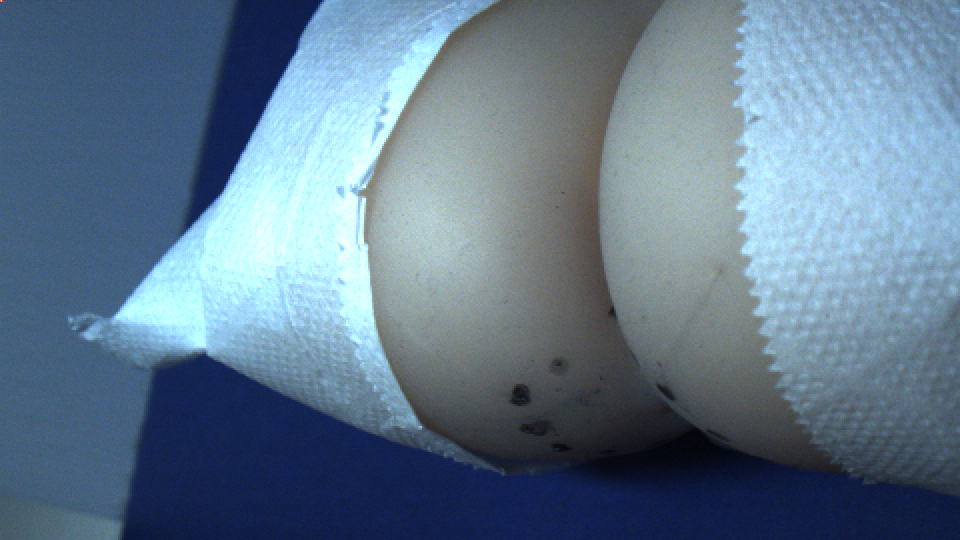asarp_marker: (501, 380, 534, 406), (521, 420, 565, 439), (653, 382, 682, 407), (548, 352, 571, 374)
